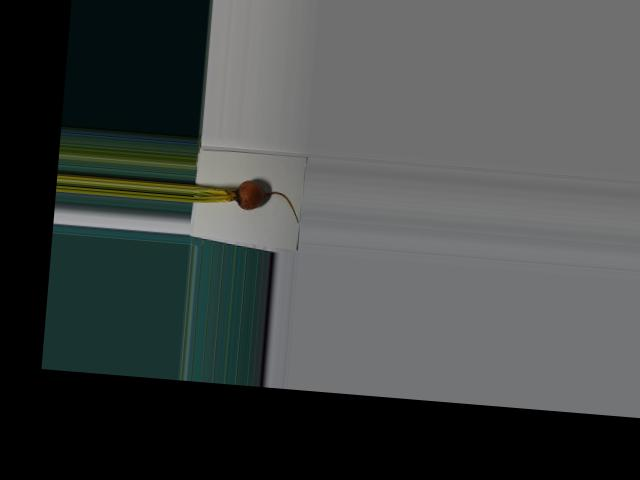beet: (192, 176, 301, 222)
